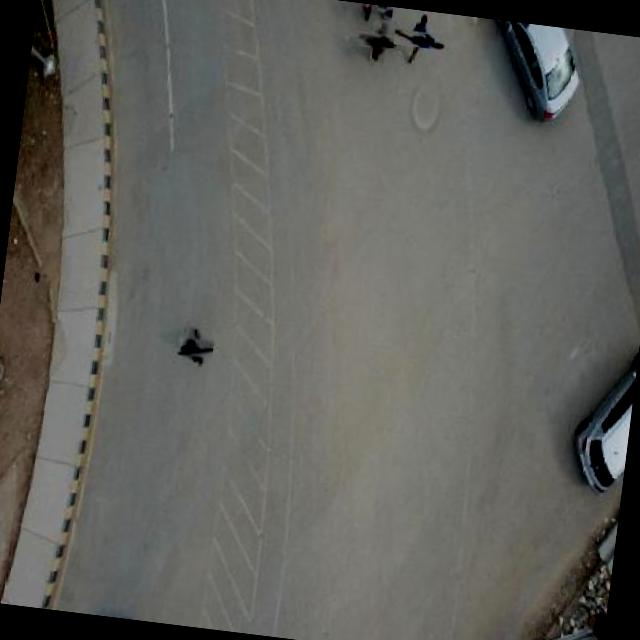Person: (399, 20, 438, 58), (362, 27, 394, 58), (179, 332, 210, 363), (374, 4, 394, 23)
